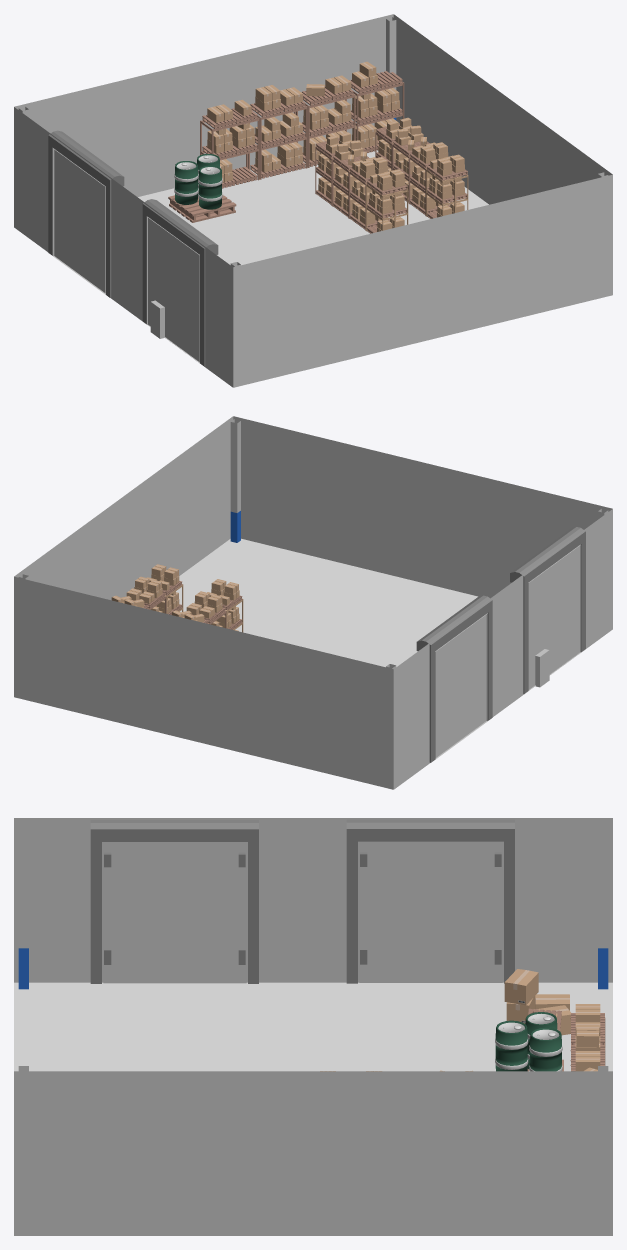
File: fetchit_env_version4.dae
3 renders of one model, top to bottom at view 1: azimuth 30°, elevation 25°; view 2: azimuth 150°, elevation 25°; view 3: azimuth 270°, elevation 25°, orthographic. The views are drawn at different scales.
Parts seen in each view (by area): view 1: walls, Cube_006, Cube_019, Cube_005, Cube_004, Cube_001, Cube_000, Circle_003, Circle_004, Cube_002, supports, Cube_073 (+3 smaller); view 2: walls, Cube_005, Cube_004, Cube_006, supports, Cube_019, Cube_000, Cube_001; view 3: walls, Cube_004, Cube_005, supports, Circle_003, Circle_001, Cube_008, Circle_004.
Boxes of the visible parts, x1=… form: walls: x1=14, y1=14, x2=612, y2=387; Cube_006: x1=315, y1=135, x2=395, y2=233; Cube_019: x1=375, y1=120, x2=455, y2=218; Cube_005: x1=48, y1=130, x2=124, y2=297; Cube_004: x1=142, y1=199, x2=218, y2=366; Cube_001: x1=338, y1=132, x2=408, y2=228; Cube_000: x1=398, y1=117, x2=468, y2=213; Circle_003: x1=198, y1=165, x2=222, y2=209; Circle_004: x1=174, y1=161, x2=198, y2=204; Cube_002: x1=168, y1=194, x2=236, y2=222; supports: x1=18, y1=17, x2=608, y2=267; Cube_073: x1=248, y1=105, x2=307, y2=179; walls: x1=14, y1=416, x2=612, y2=789; Cube_005: x1=416, y1=595, x2=492, y2=762; Cube_004: x1=510, y1=527, x2=585, y2=693; Cube_006: x1=184, y1=582, x2=243, y2=632; supports: x1=18, y1=419, x2=608, y2=669; Cube_019: x1=124, y1=567, x2=183, y2=614; Cube_000: x1=111, y1=564, x2=166, y2=606; Cube_001: x1=172, y1=579, x2=226, y2=621; walls: x1=14, y1=818, x2=612, y2=1235; Cube_004: x1=90, y1=820, x2=258, y2=983; Cube_005: x1=346, y1=819, x2=514, y2=983; supports: x1=18, y1=821, x2=608, y2=1071; Circle_003: x1=495, y1=1020, x2=528, y2=1071; Circle_001: x1=529, y1=1027, x2=562, y2=1071; Cube_008: x1=504, y1=969, x2=538, y2=1005; Circle_004: x1=525, y1=1012, x2=557, y2=1069.
Bounding box in the file's own units: 14.07 × 13.89 × 4.24.
15 materials, 2 textured.
